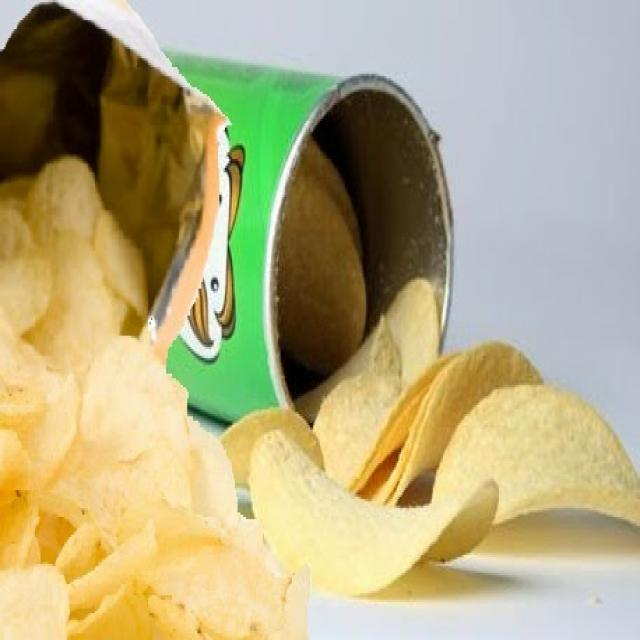Chips packaged: (3, 168, 283, 640), (325, 327, 640, 611)
